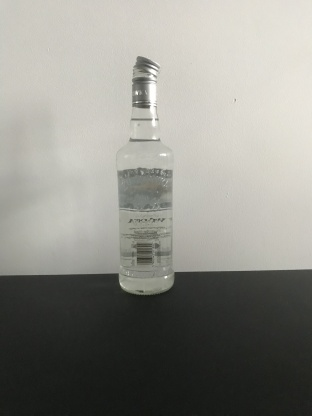nakretka: (130, 53, 161, 108)
